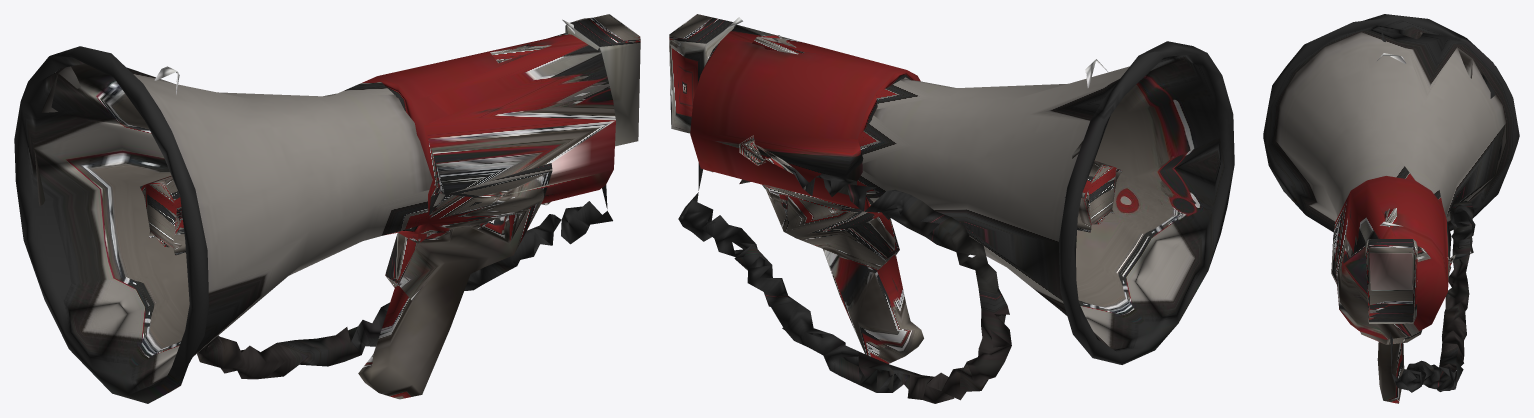
File: handitem_megafon.glb
The picture shows the model from 3 angles, left to right: view 1: azimuth 30°, elevation 25°; view 2: azimuth 150°, elevation 25°; view 3: azimuth 270°, elevation 25°; orthographic projection. The views are drawn at different scales.
Parts seen in each view (by area): view 1: origin; view 2: origin; view 3: origin.
Part boxes in pixels (x1,y1,x2,y2): origin: (14,14,640,403); origin: (669,14,1234,403); origin: (1263,14,1519,403).
Size of the model in its own units: 0.3707 by 0.2831 by 0.2276.
1 material, 1 textured.
